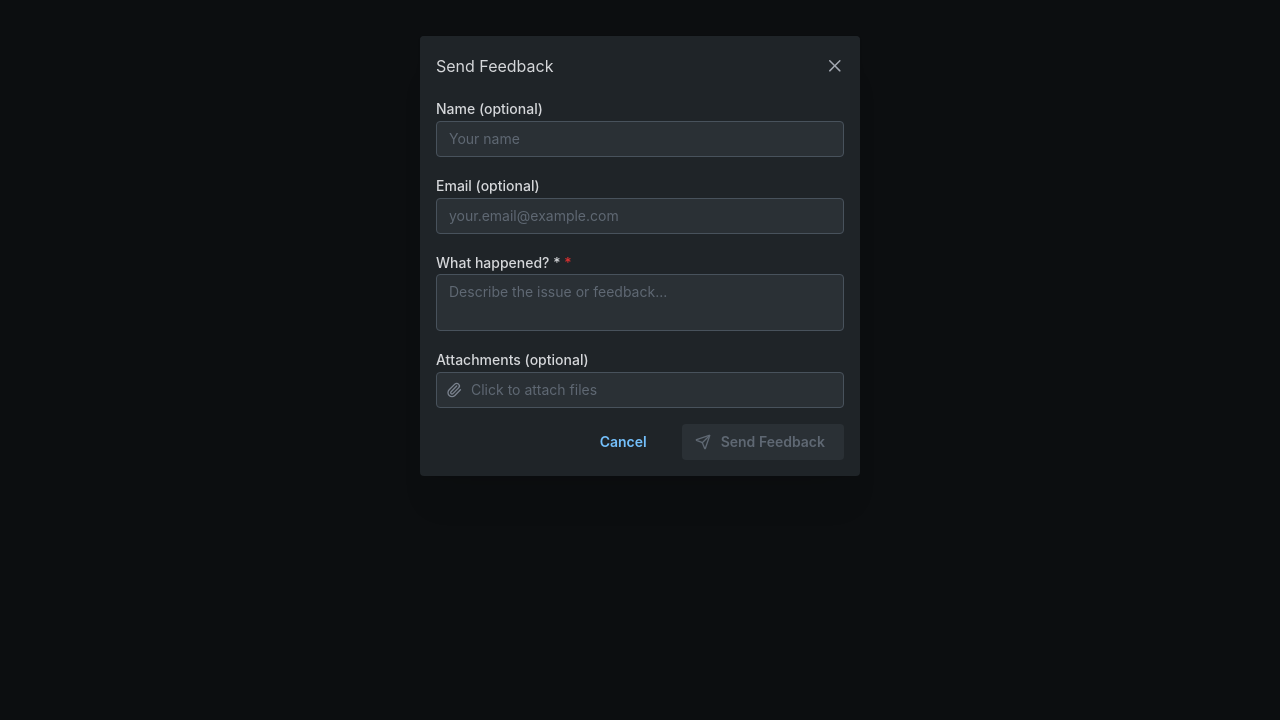
Test: FeedbackModal › error handling › keeps form data when submission fails
Note: Fill in all fields
Type "John Doe" into the field with placeholder "Your name". click: (640, 139)
box: [436,121,844,157]
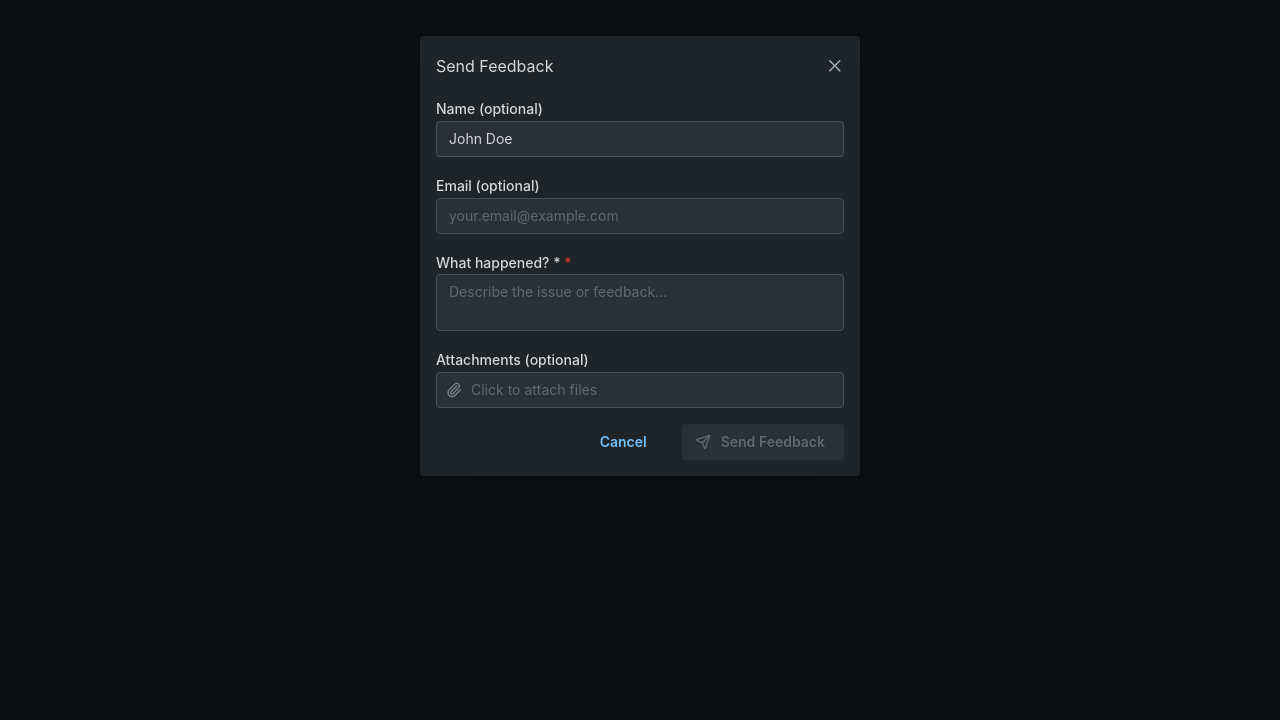
Type "john@example.com" into the field with placeholder "your.email@example.com". click: (640, 216)
box: [436,198,844,234]
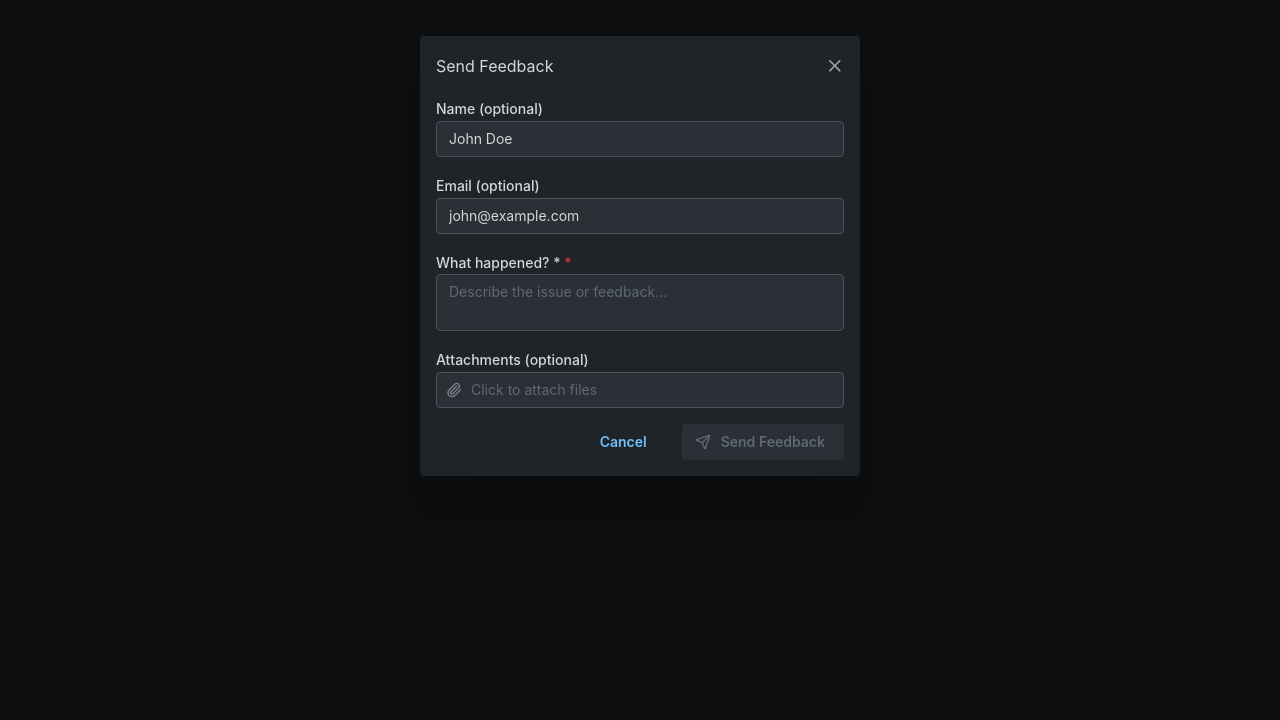
Type "My feedback message" into the text box with placeholder "Describe the issue or feedback...". click: (640, 303)
box: [436,274,844,331]
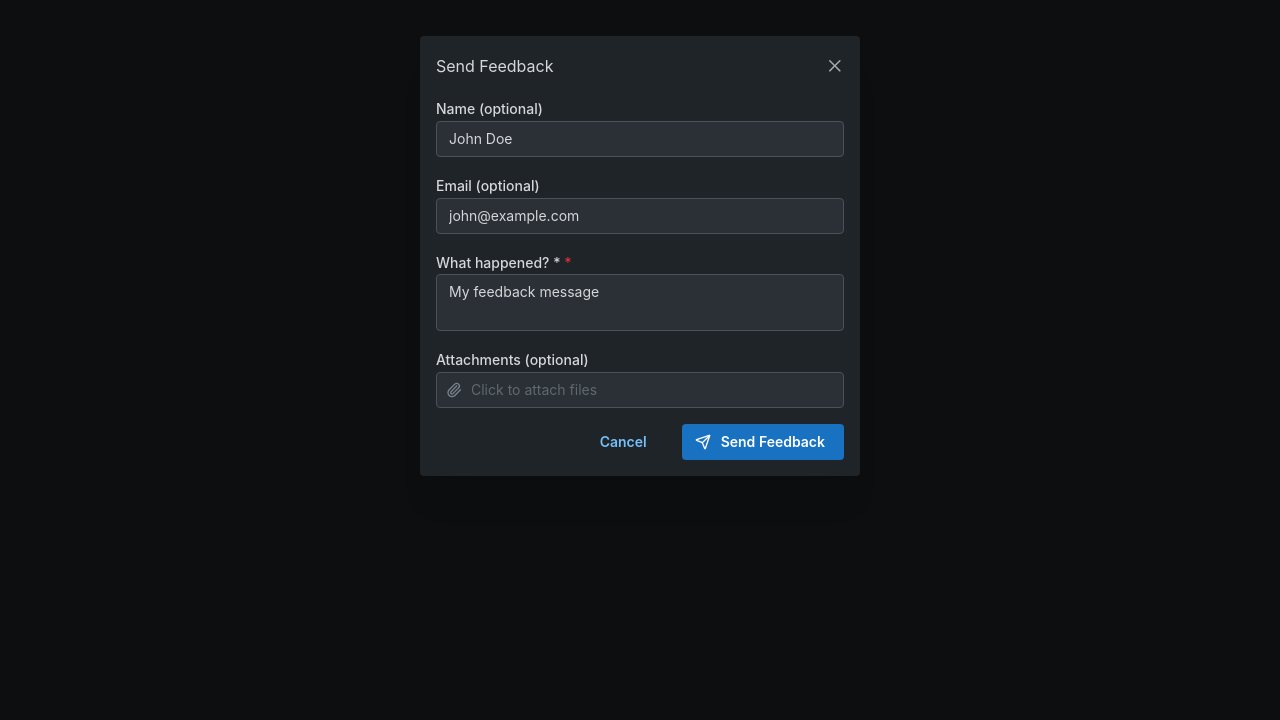
Note: Click submit
Click the button "Send Feedback". click: click(763, 442)
box: [682,424,844,460]
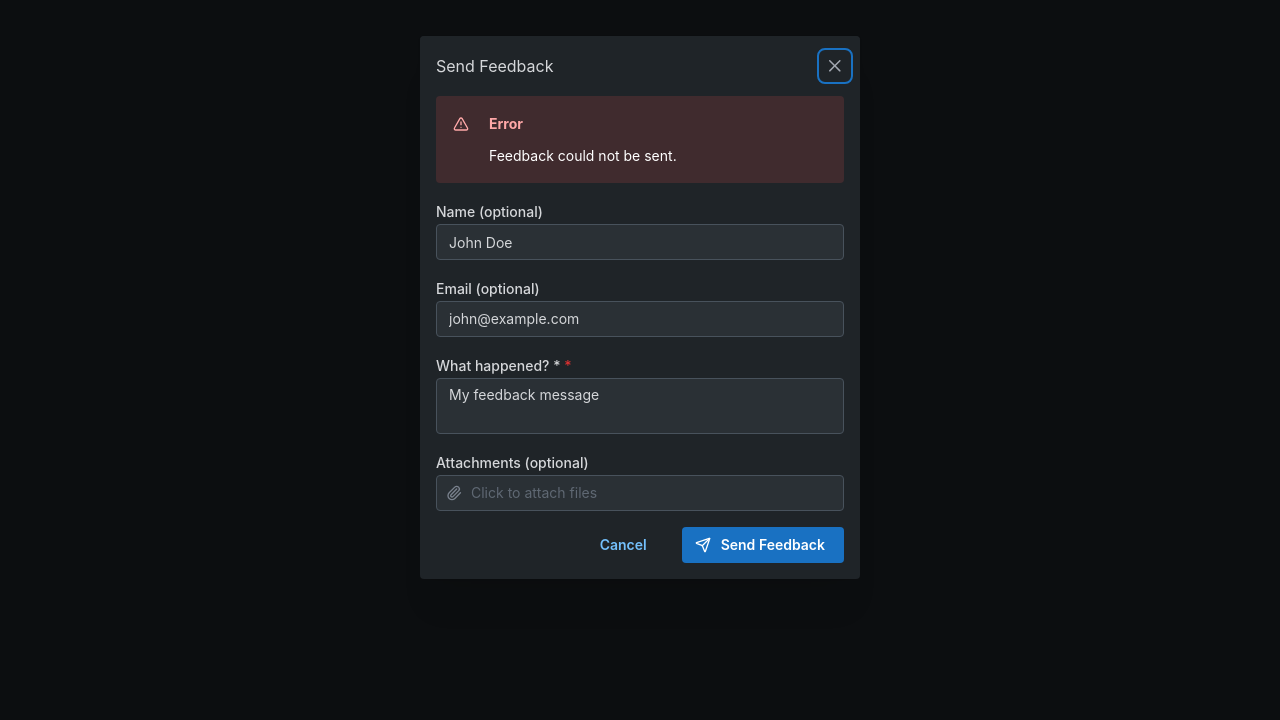
Expected: the message "Error Feedback could not be sent." is shown, [436,96,844,183]
